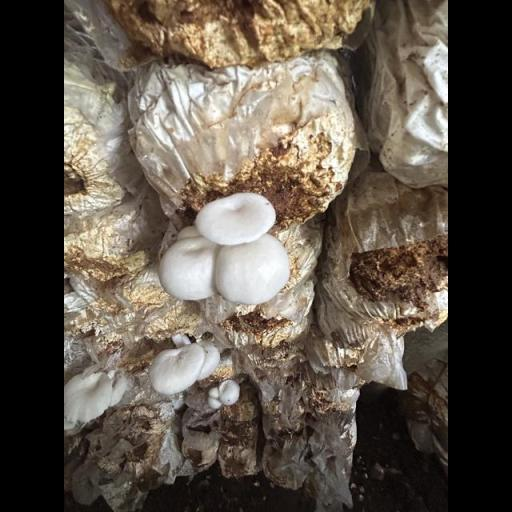White Oyster Mushroom: (153, 187, 298, 314), (138, 331, 222, 395), (203, 377, 244, 414)
